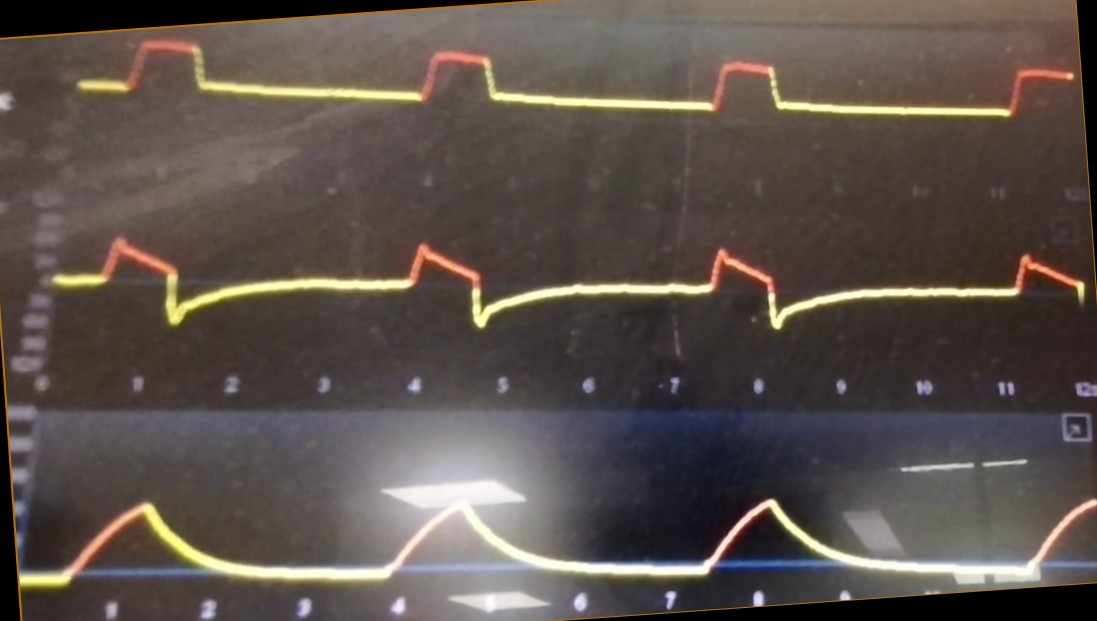Normal Flow: (55, 203, 1088, 353)
Normal Volume: (21, 473, 1097, 589)
